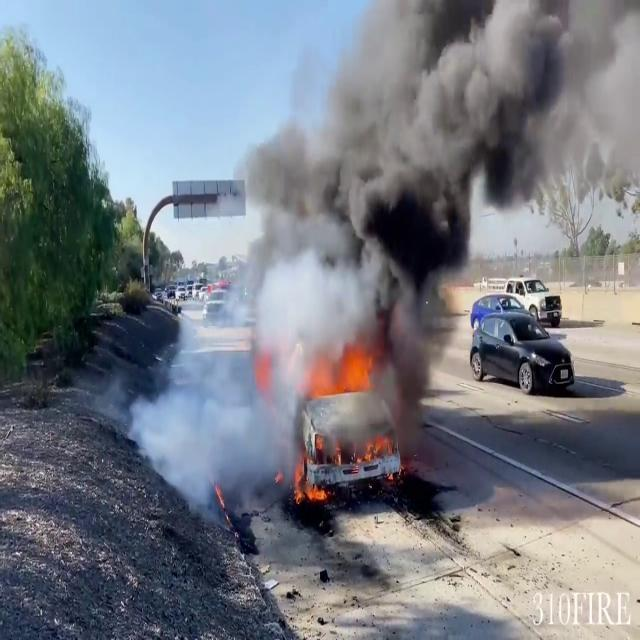Smoke: (313, 0, 632, 437), (128, 71, 342, 508)
